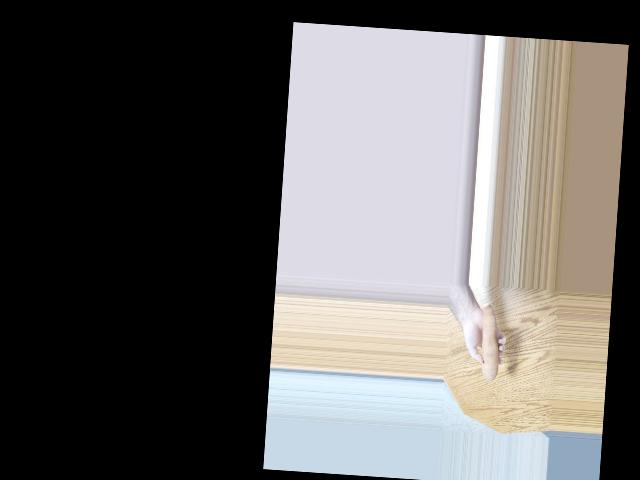sweet_potato: (479, 305, 507, 384)
